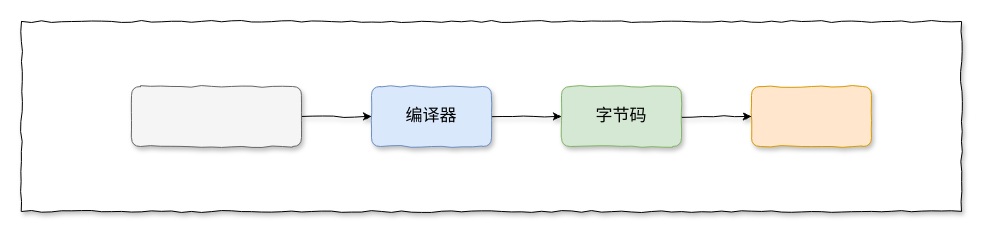
Some shapes in this 985 by 236 pixel diagram are drawn without their labels. Each missing label, with the centre of its shape:
Java/Groovy/Scala: [217,118]
虚拟机: [812,118]
